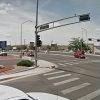Crosswalk: (46, 60, 94, 100)
